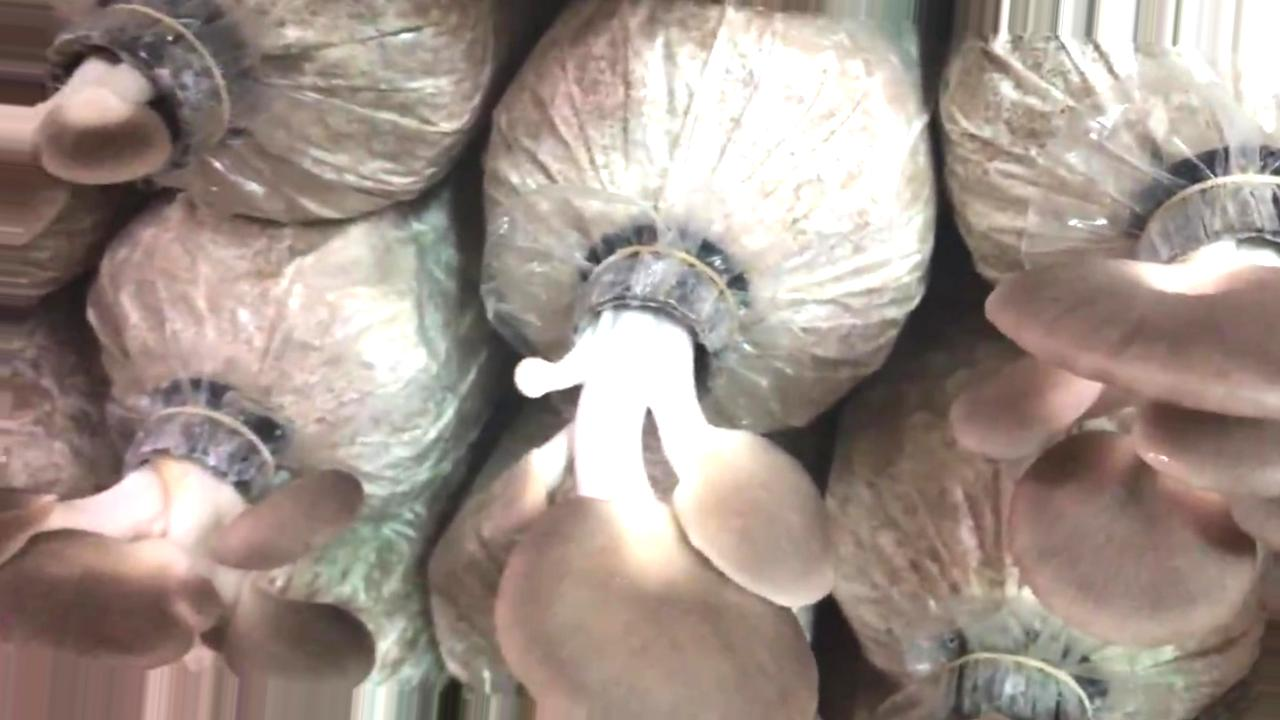nam: (496, 253, 836, 720), (957, 185, 1280, 641), (5, 412, 373, 720), (1, 3, 223, 249)
